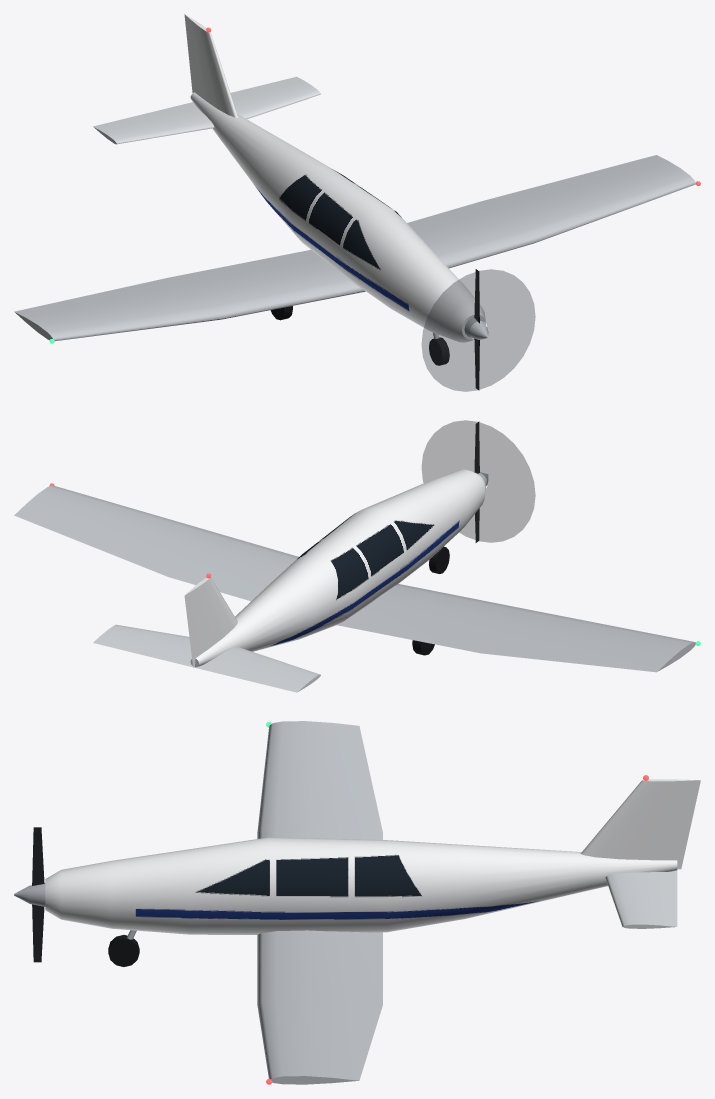
3 views of the same model, one above another, from view 1: azimuth 30°, elevation 25°; view 2: azimuth 150°, elevation 25°; view 3: azimuth 270°, elevation 25° (orthographic). The views are drawn at different scales.
Parts seen in each view (by area): view 1: body, fixed; view 2: body, fixed; view 3: body, fixed.
Part boxes in pixels (<box>): body: <box>14,14,700,391</box>; fixed: <box>270,306,449,365</box>; body: <box>14,420,700,692</box>; fixed: <box>412,546,449,655</box>; body: <box>14,721,700,1084</box>; fixed: <box>108,930,139,966</box>.
Bounding box in the file's own units: 10.84 × 2.66 × 8.75.
Materials: 11 (1 with a texture image).
